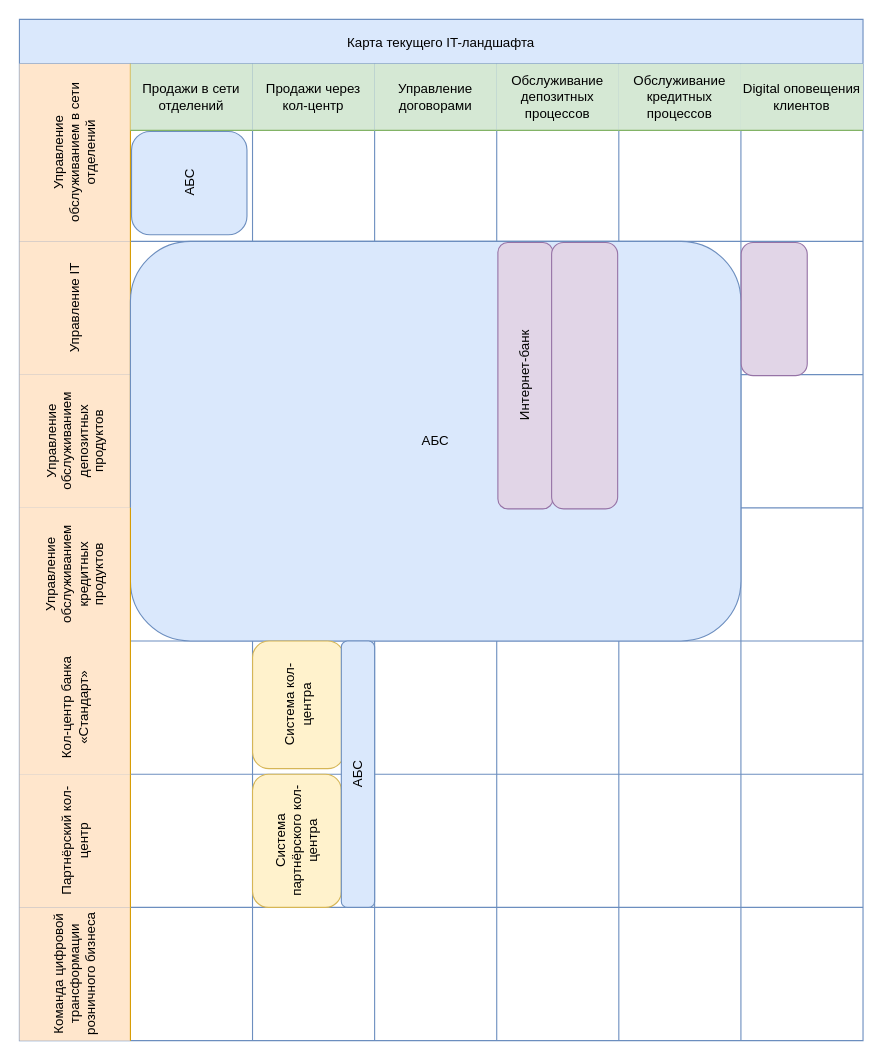
This 882x1060 diagram has some shape labels left out. Each missing label, with the centre of its shape:
"Сайт" goes at pixel 584 375.
"СМС-шлюз телеком-оператора" goes at pixel 773 308.
